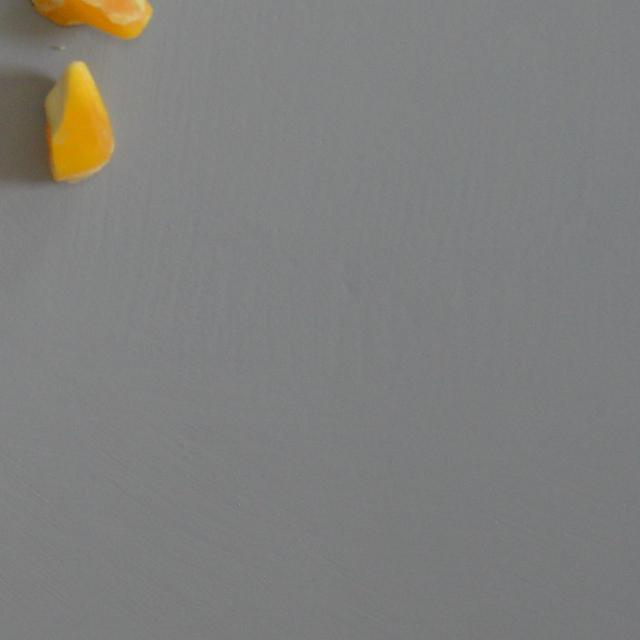estandar: (40, 60, 118, 180)
pelicula: (53, 0, 128, 60)
